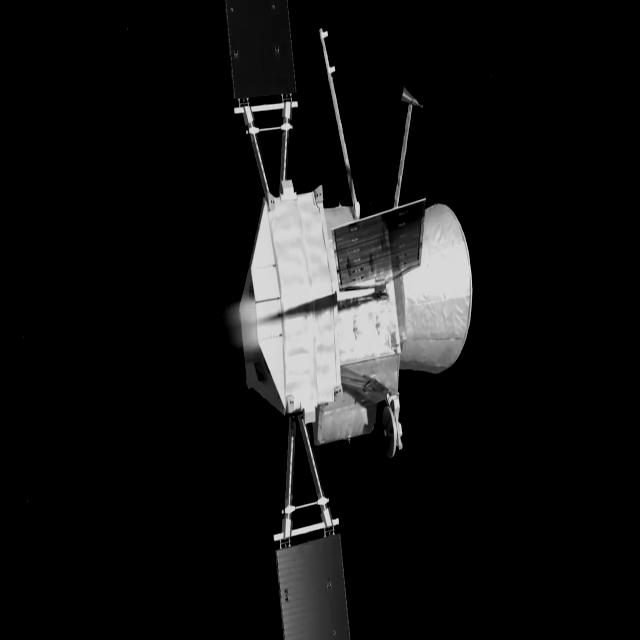satellite: (207, 2, 481, 640)
